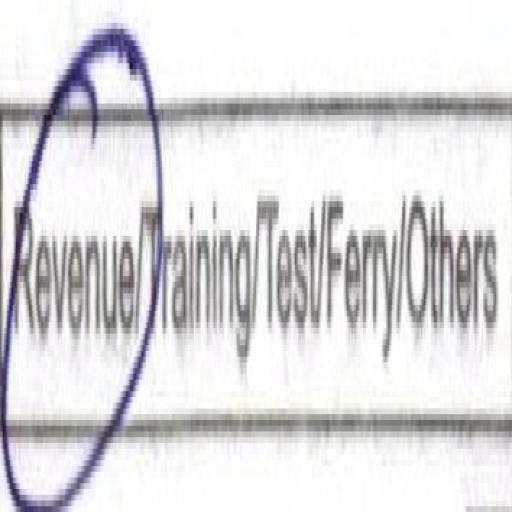check: (0, 29, 138, 512)
